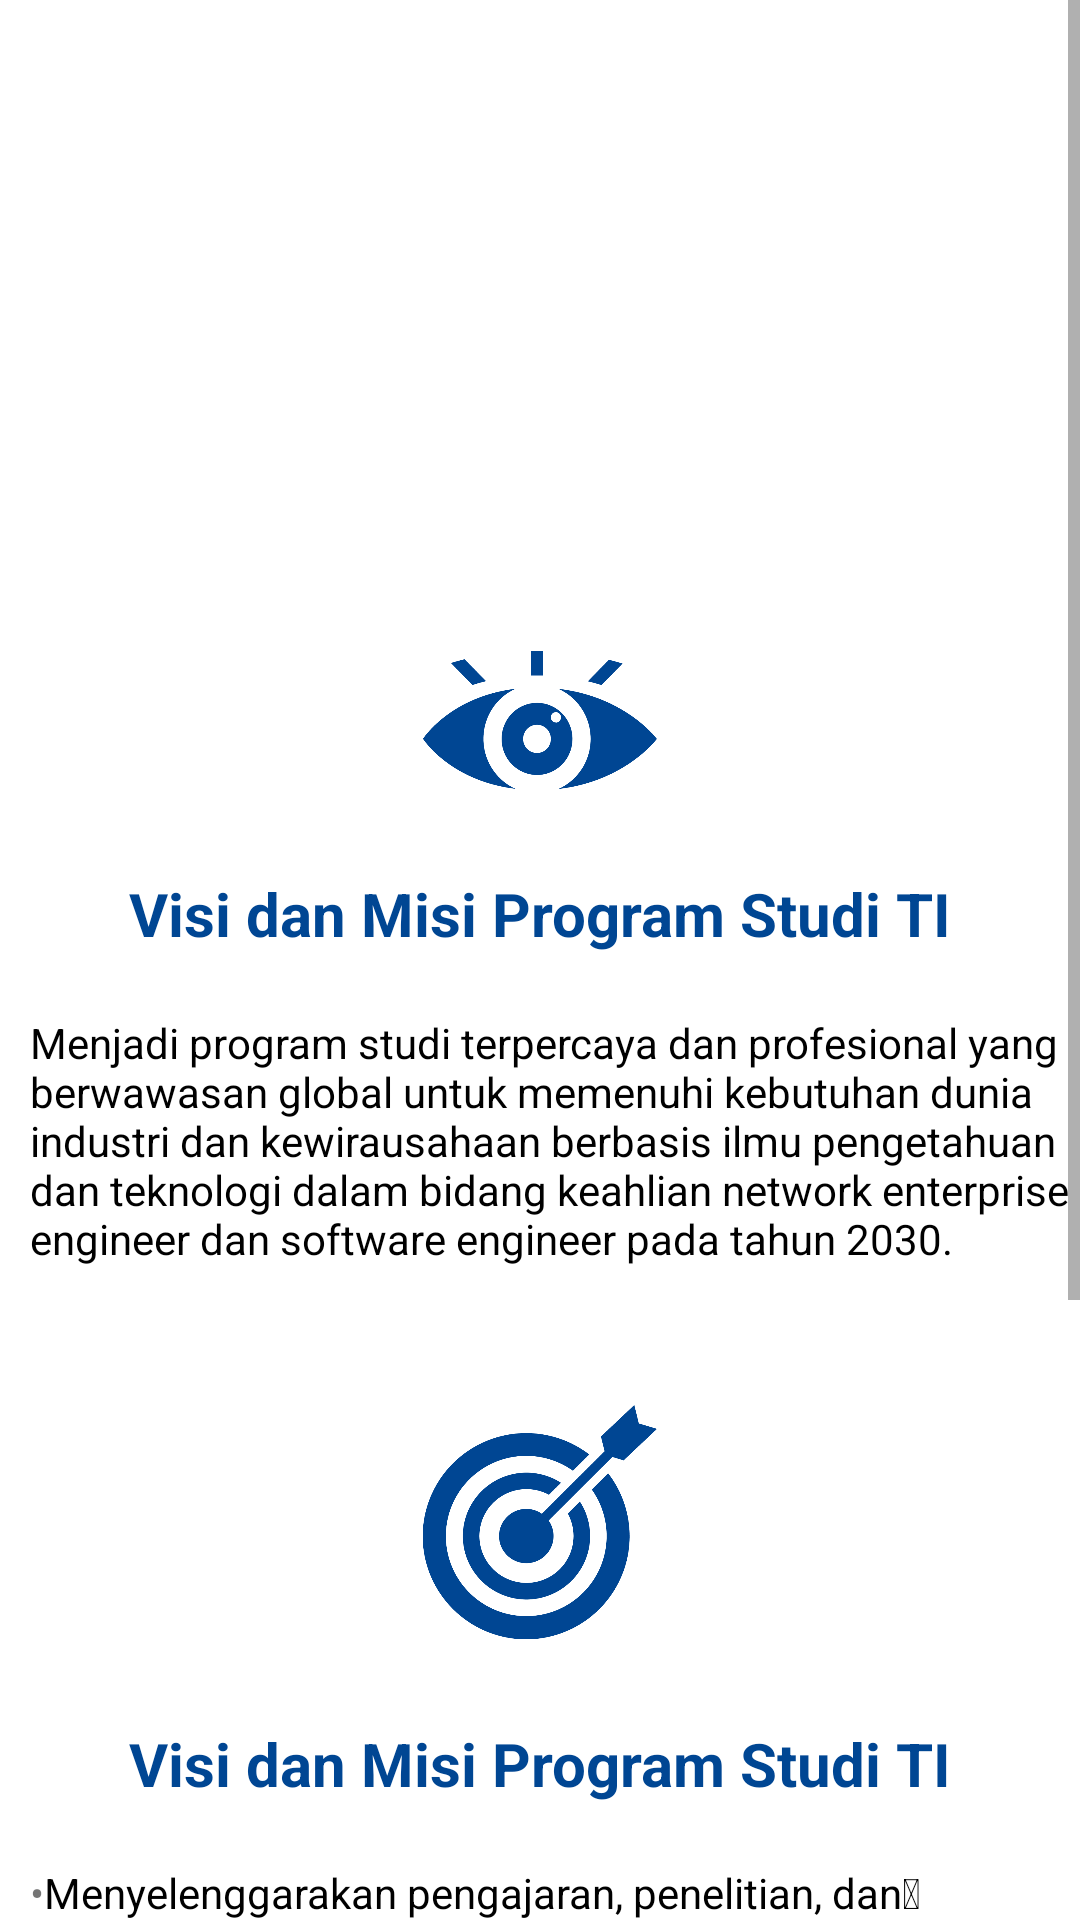

Icon click points for this 1080w x 1920h phone screenshot, format point (x, y):
tujuan mode: point (540, 1522)
